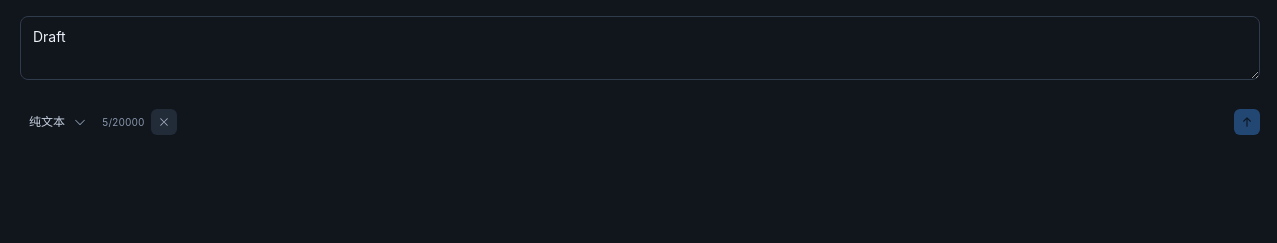
Test case: Artifact version editing › revises manual text content without overwriting its previous version
Step 1. Click the dropdown named "文字格式" → [58, 122], box [20, 106, 96, 138]
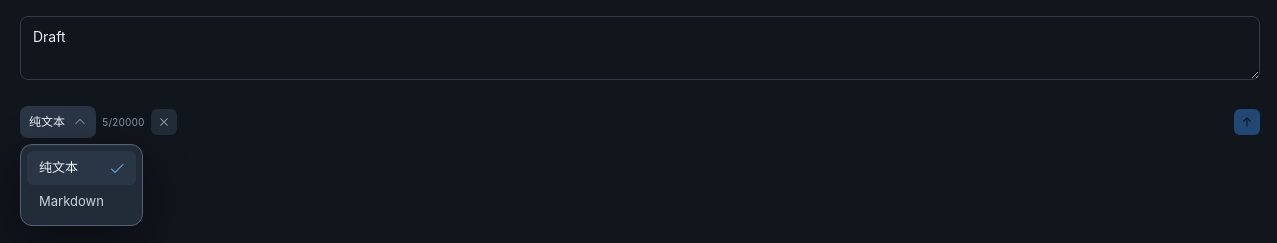
Step 2. Click the option "Markdown" → [71, 201], box [39, 193, 104, 209]
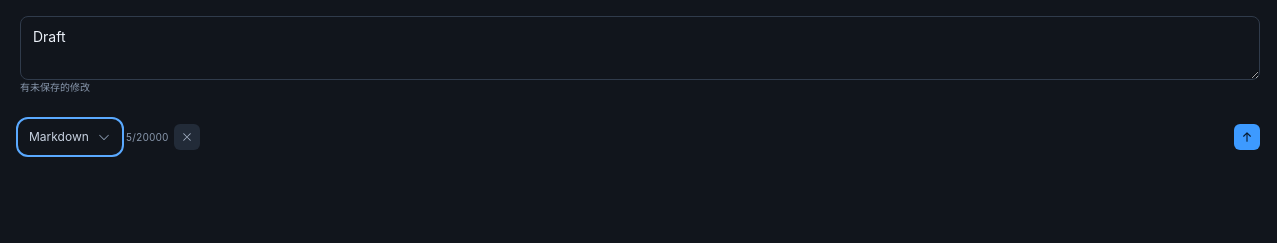
Step 3. Replace the text in the text box named "内容" with "Revised" → [640, 48], box [20, 16, 1260, 80]
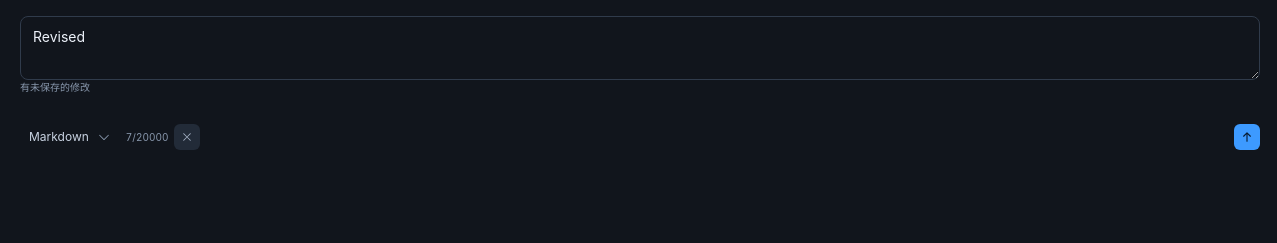
Step 4. Click the button named "保存新版本" → [1247, 137], box [1234, 124, 1260, 150]
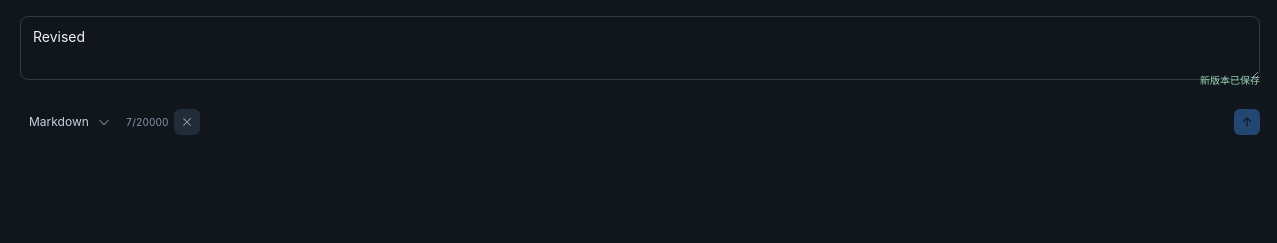
Expected: the text "新版本已保存" is shown, [1200, 73, 1260, 88]
